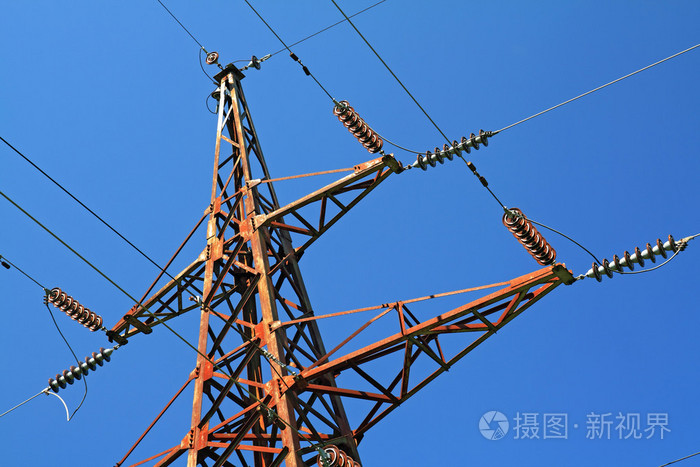insulator: (592, 235, 681, 283), (500, 205, 556, 265), (415, 128, 492, 170), (48, 348, 109, 393), (331, 99, 380, 153), (46, 288, 103, 331), (315, 448, 359, 467)
